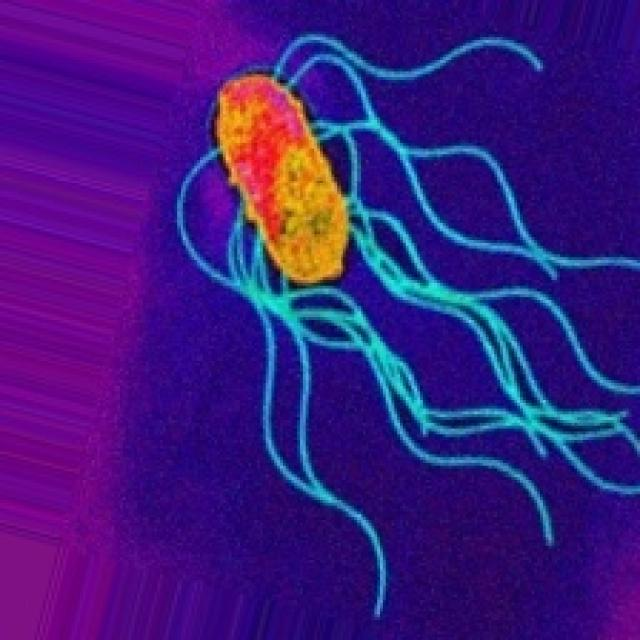Rod_bacteria: (172, 29, 637, 620), (208, 68, 352, 286)
